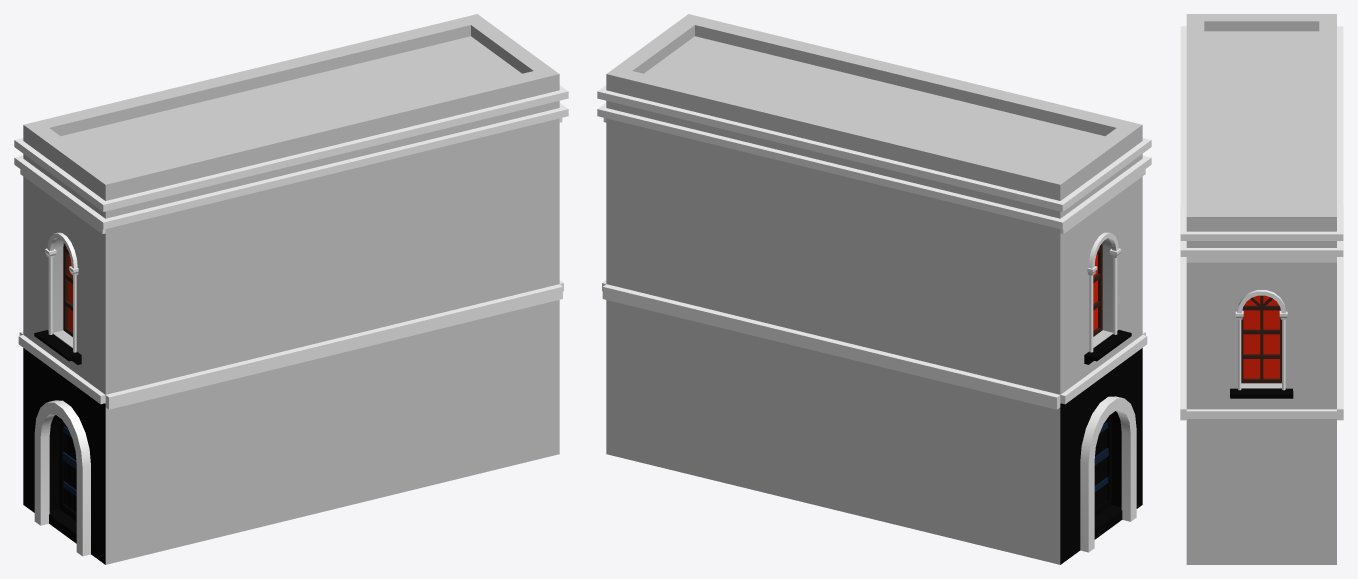
File: civilian_house_36_a.FBX
3 renders of one model, left to right at view 1: azimuth 30°, elevation 25°; view 2: azimuth 150°, elevation 25°; view 3: azimuth 270°, elevation 25°, orthographic. The views are drawn at different scales.
Visible parts, largest first — view 1: civilian_house_36_a; view 2: civilian_house_36_a; view 3: civilian_house_36_a.
Boxes of the visible parts, box(x1,y1,x2,y2) form: civilian_house_36_a: box(14, 14, 568, 564); civilian_house_36_a: box(597, 14, 1151, 564); civilian_house_36_a: box(1180, 14, 1343, 564).
Size of the model in its own units: 1057 by 800 by 340.
